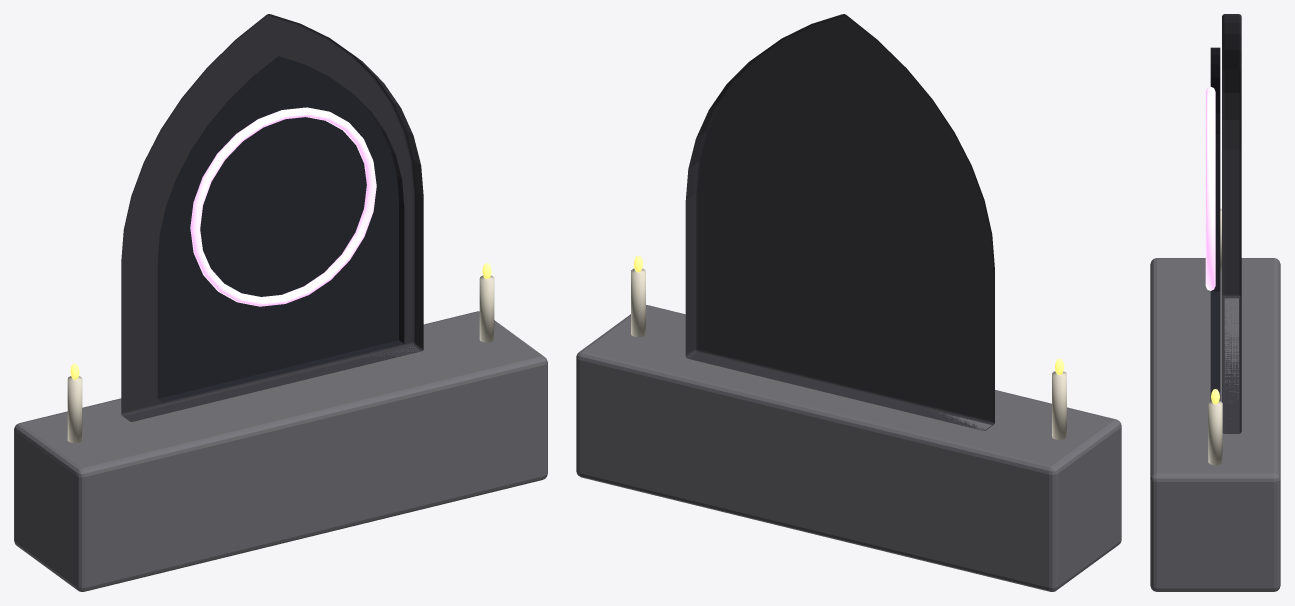
File: focus_stand_scrying_mirror.glb
3 views of the same model, side by side, from view 1: azimuth 30°, elevation 25°; view 2: azimuth 150°, elevation 25°; view 3: azimuth 270°, elevation 25° (orthographic). The views are drawn at different scales.
Parts seen in each view (by area): view 1: GD_focus_stand_scrying_mirror__m0, GD_focus_stand_scrying_mirror__m2, GD_focus_stand_scrying_mirror__m1, GD_focus_stand_scrying_mirror__m5, GD_focus_stand_scrying_mirror__m3; view 2: GD_focus_stand_scrying_mirror__m1, GD_focus_stand_scrying_mirror__m0, GD_focus_stand_scrying_mirror__m3; view 3: GD_focus_stand_scrying_mirror__m0, GD_focus_stand_scrying_mirror__m1, GD_focus_stand_scrying_mirror__m2, GD_focus_stand_scrying_mirror__m5, GD_focus_stand_scrying_mirror__m3.
Part boxes in pixels (x1,y1,x2,y2): GD_focus_stand_scrying_mirror__m0: (14, 311, 547, 591); GD_focus_stand_scrying_mirror__m2: (157, 56, 404, 402); GD_focus_stand_scrying_mirror__m1: (121, 14, 423, 421); GD_focus_stand_scrying_mirror__m5: (190, 107, 376, 306); GD_focus_stand_scrying_mirror__m3: (67, 275, 494, 443); GD_focus_stand_scrying_mirror__m1: (685, 14, 994, 430); GD_focus_stand_scrying_mirror__m0: (576, 305, 1121, 591); GD_focus_stand_scrying_mirror__m3: (631, 268, 1066, 439); GD_focus_stand_scrying_mirror__m0: (1150, 258, 1280, 591); GD_focus_stand_scrying_mirror__m1: (1222, 14, 1241, 433); GD_focus_stand_scrying_mirror__m2: (1210, 47, 1220, 400); GD_focus_stand_scrying_mirror__m5: (1205, 86, 1215, 290); GD_focus_stand_scrying_mirror__m3: (1208, 208, 1222, 465).
Size of the model in its own units: 1.6 by 1.59 by 0.4.
